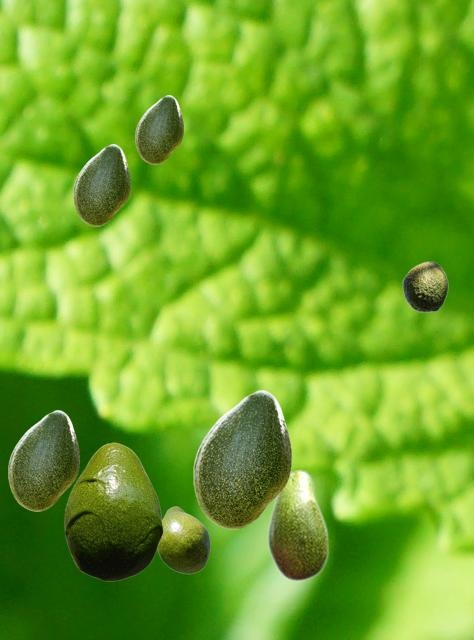avocado: (64, 442, 162, 580), (193, 390, 290, 528), (8, 410, 78, 510), (267, 468, 328, 581), (73, 144, 129, 225), (157, 506, 209, 573), (135, 95, 182, 163), (402, 261, 447, 311)
